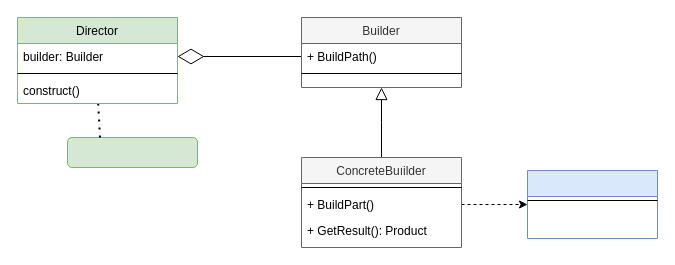
Some shapes in this 675 by 265 pixel diagram are drawn without their labels. The shapes that lost their labels are listed below. From the top down, each one's centre as x and y in pixels, then its label:
the point at 132,152: this.builder.BuildPath()
the point at 592,204: Product
